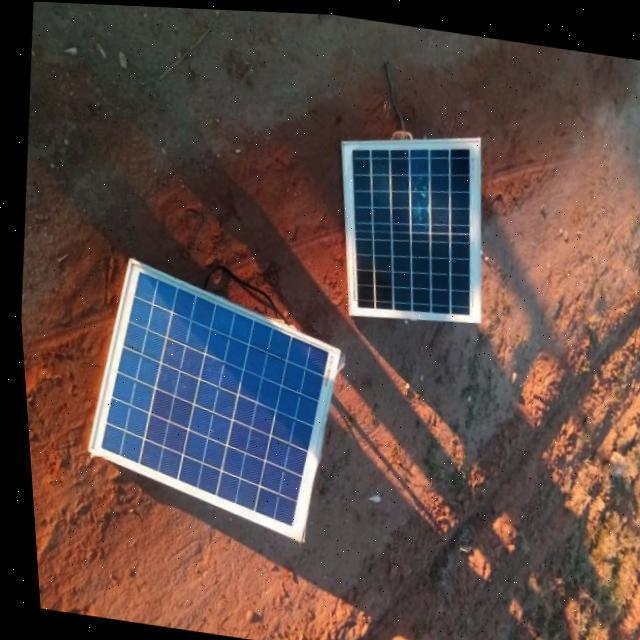Normal Solar Panel: (65, 253, 349, 542), (319, 113, 496, 331)
